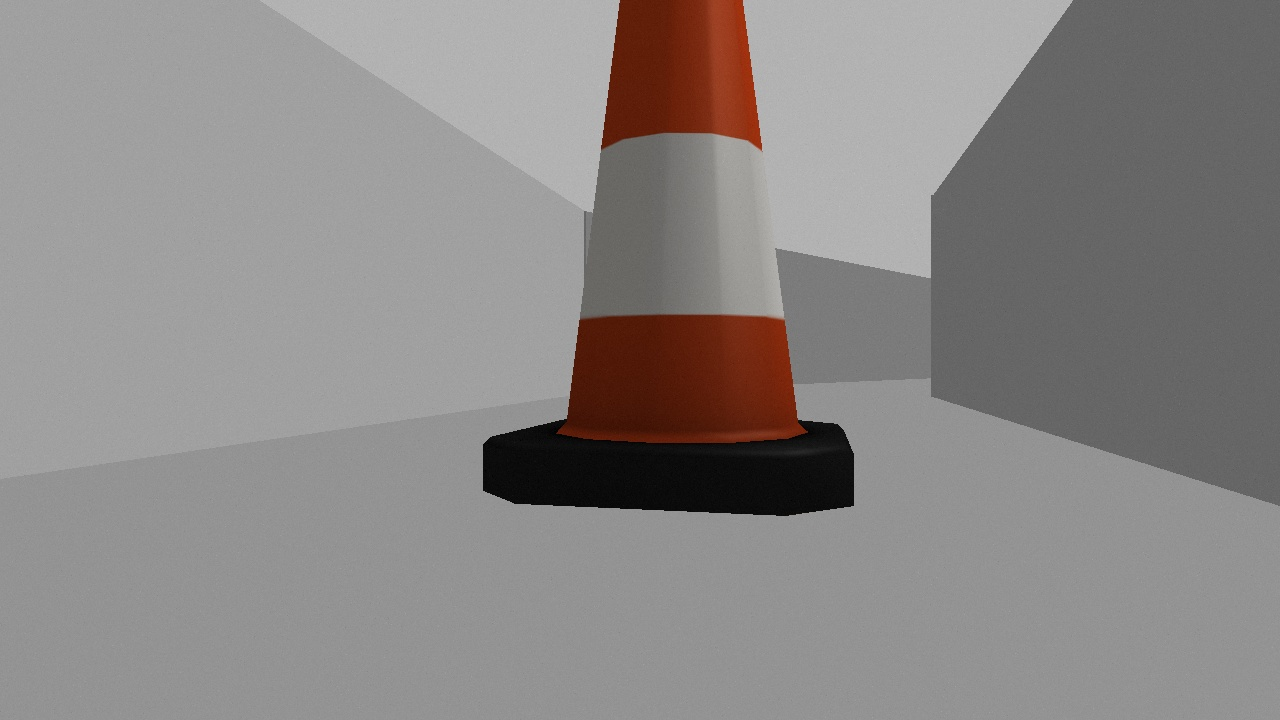barricade: (481, 1, 854, 515)
